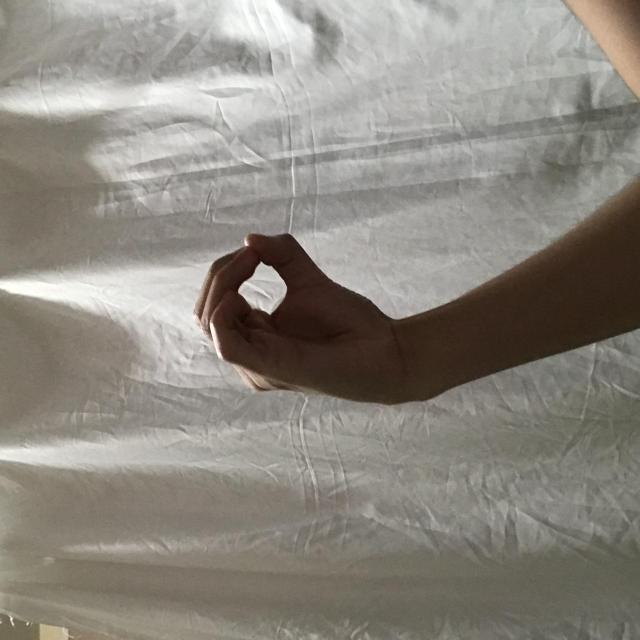O: (239, 195, 409, 396)
